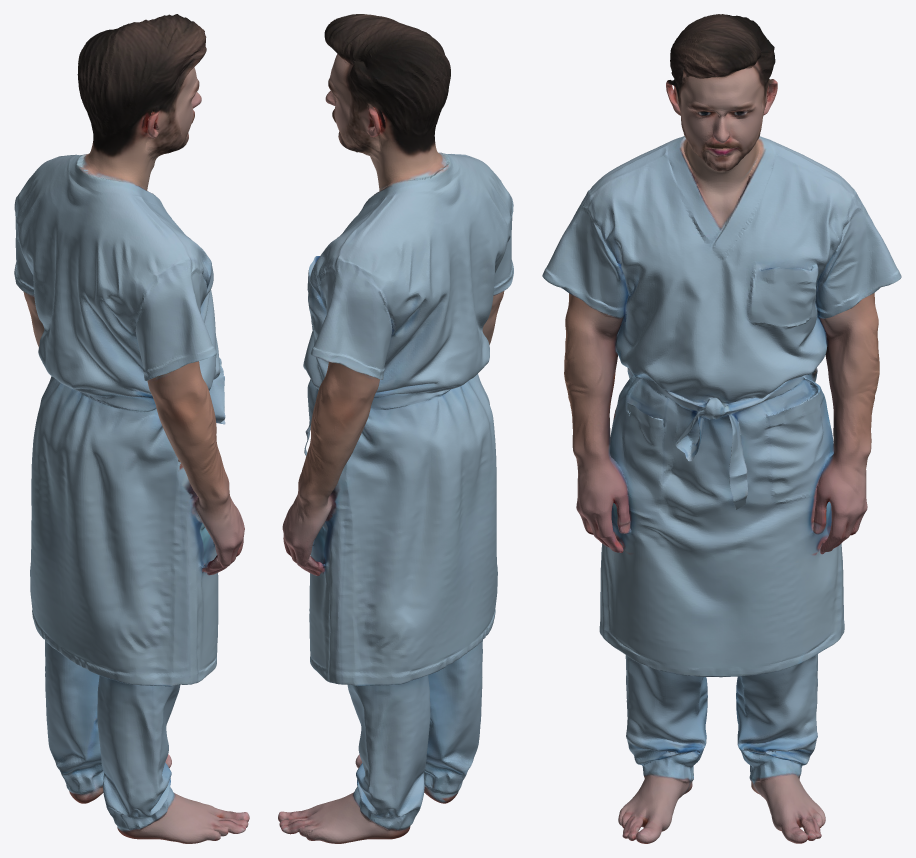
Rendered from patient.glb.
3 renders of one model, left to right at view 1: azimuth 30°, elevation 25°; view 2: azimuth 150°, elevation 25°; view 3: azimuth 270°, elevation 25°, orthographic.
Visible parts, largest first — view 1: tripo_node_530d5628-13b2-47ad-82c9-7a589357dd70; view 2: tripo_node_530d5628-13b2-47ad-82c9-7a589357dd70; view 3: tripo_node_530d5628-13b2-47ad-82c9-7a589357dd70.
Boxes of the visible parts, x1,y1,x2,y2 form: tripo_node_530d5628-13b2-47ad-82c9-7a589357dd70: (14, 14, 249, 843); tripo_node_530d5628-13b2-47ad-82c9-7a589357dd70: (278, 14, 513, 843); tripo_node_530d5628-13b2-47ad-82c9-7a589357dd70: (542, 14, 901, 843).
Size of the model in its own units: 0.2182 by 1 by 0.4113.
Materials: 1 (1 with a texture image).
